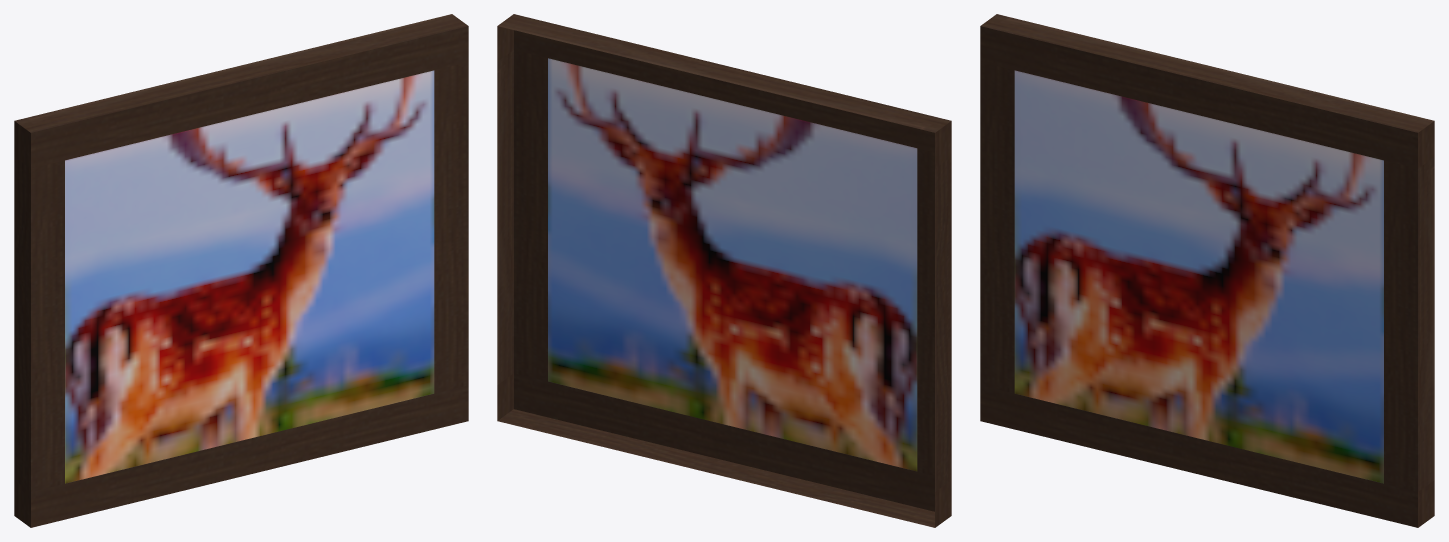
Rendered from Paint_11.fbx.
The picture shows the model from 3 angles, left to right: view 1: azimuth 30°, elevation 25°; view 2: azimuth 150°, elevation 25°; view 3: azimuth 330°, elevation 25°; orthographic projection.
Visible parts, largest first — view 1: polySurface1565; view 2: polySurface1565; view 3: polySurface1565.
Part boxes in pixels (x1,y1,x2,y2): polySurface1565: (14, 14, 468, 527); polySurface1565: (497, 14, 951, 527); polySurface1565: (980, 14, 1434, 527).
Size of the model in its own units: 1.23 by 1.06 by 0.08.
